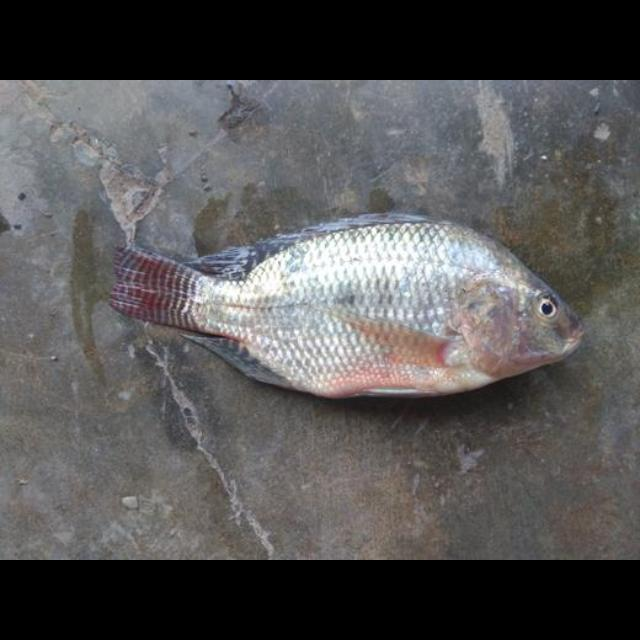Tilapia: (102, 208, 594, 400)
